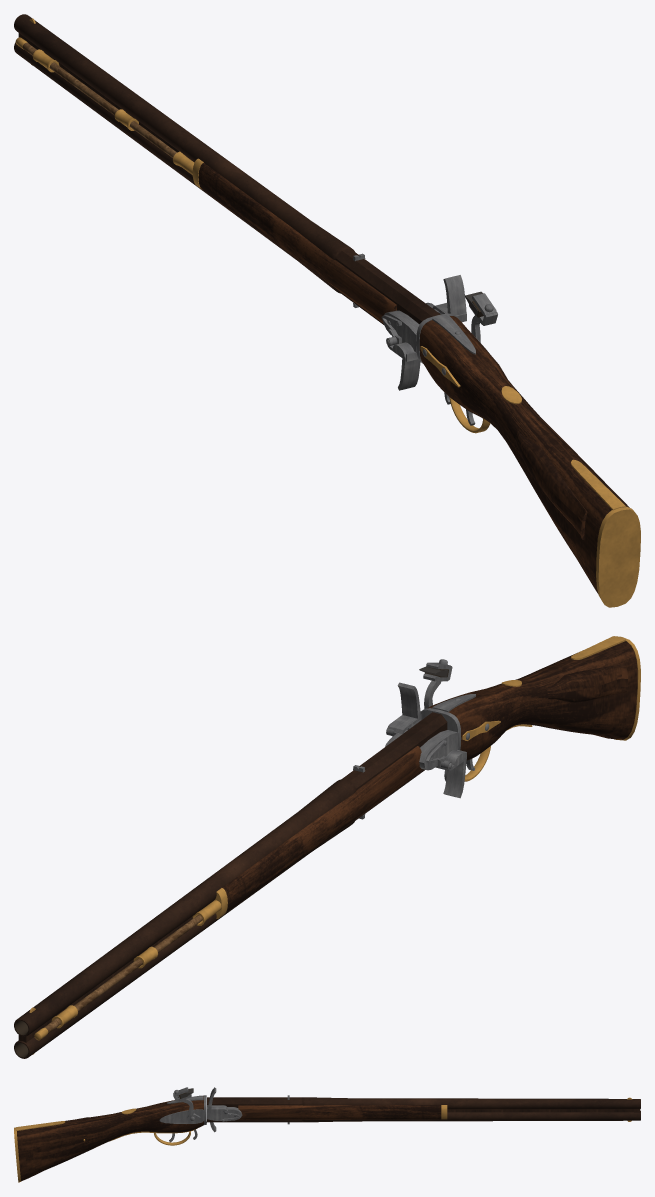
The model's file is over_under.glb.
3 renders of one model, top to bottom at view 1: azimuth 30°, elevation 25°; view 2: azimuth 150°, elevation 25°; view 3: azimuth 270°, elevation 25°, orthographic. The views are drawn at different scales.
Visible parts, largest first — view 1: BarrelPair, OverUnder, Ramrod, Cock, FrizzenA; view 2: BarrelPair, OverUnder, Ramrod, FrizzenA, Cock, FrizzenB; view 3: BarrelPair, OverUnder, Cock, FrizzenA.
Boxes of the visible parts, x1=… form: BarrelPair: x1=14, y1=14, x2=466, y2=361; OverUnder: x1=416, y1=313, x2=640, y2=607; Ramrod: x1=15, y1=37, x2=176, y2=157; Cock: x1=465, y1=291, x2=497, y2=342; FrizzenA: x1=432, y1=275, x2=466, y2=315; BarrelPair: x1=14, y1=712, x2=466, y2=1058; OverUnder: x1=420, y1=636, x2=640, y2=781; Ramrod: x1=34, y1=914, x2=202, y2=1040; FrizzenA: x1=386, y1=682, x2=420, y2=736; Cock: x1=419, y1=659, x2=452, y2=708; FrizzenB: x1=435, y1=757, x2=466, y2=798; BarrelPair: x1=207, y1=1095, x2=640, y2=1124; OverUnder: x1=14, y1=1095, x2=206, y2=1182; Cock: x1=173, y1=1087, x2=200, y2=1123; FrizzenA: x1=208, y1=1087, x2=230, y2=1115.
Bounding box in the file's own units: 0.0814 × 0.2288 × 1.32.
7 materials, 5 textured.
